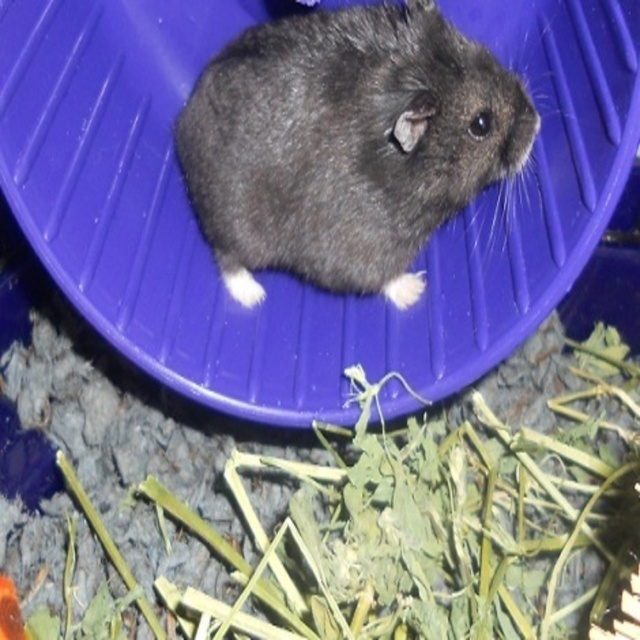Mouse: (173, 8, 569, 308)
